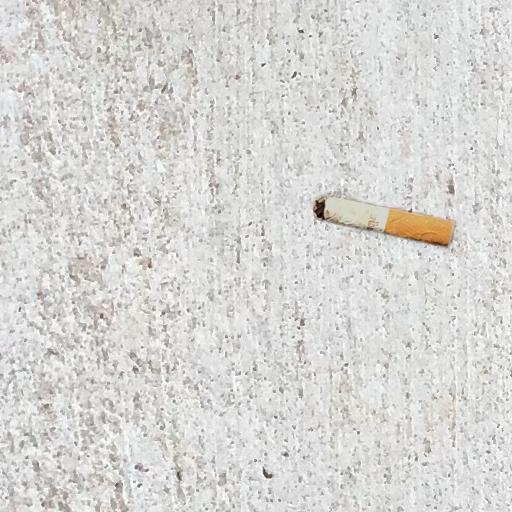smoke: (314, 196, 454, 246)
